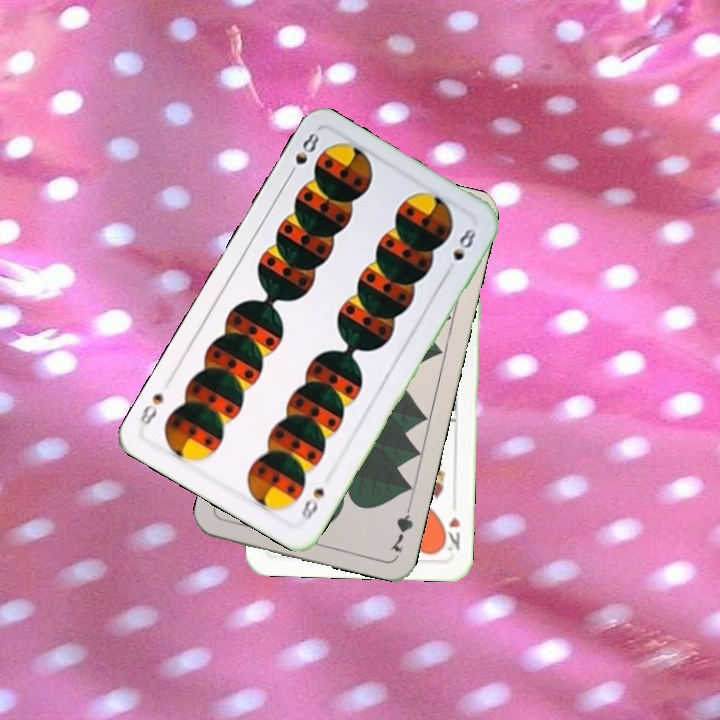G7: (386, 497, 416, 555)
HK: (438, 512, 463, 553)
S8: (283, 128, 322, 182), (297, 484, 328, 523)
